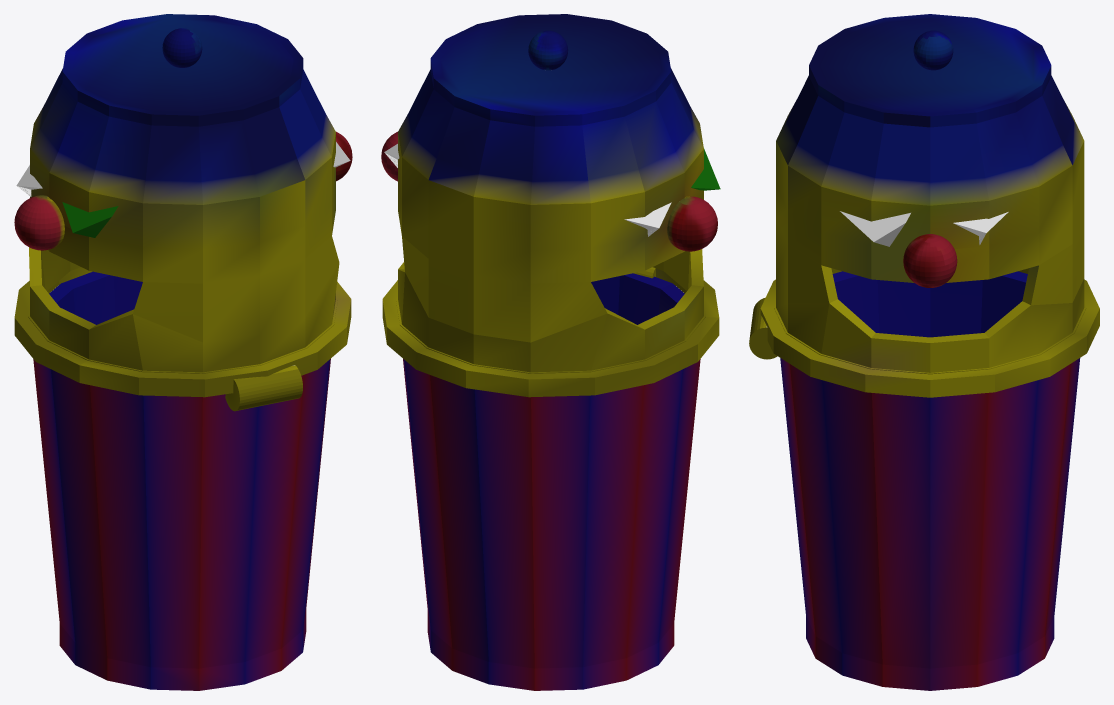
File: lixeiracorfinal.fbx
The picture shows the model from 3 angles, left to right: view 1: azimuth 30°, elevation 25°; view 2: azimuth 150°, elevation 25°; view 3: azimuth 270°, elevation 25°; orthographic projection.
Parts seen in each view (by area): view 1: Cilindro.001, Cilindro, Cubo.000; view 2: Cilindro.001, Cilindro, Cubo.001, Cubo.000; view 3: Cilindro.001, Cilindro, Cubo.002, Cubo.001.
Boxes of the visible parts, left/top/right/bottom form: Cilindro.001: left=14, top=14, right=352, bottom=411; Cilindro: left=33, top=271, right=330, bottom=690; Cubo.000: left=62, top=202, right=118, bottom=237; Cilindro.001: left=381, top=14, right=719, bottom=397; Cilindro: left=403, top=273, right=700, bottom=690; Cubo.001: left=384, top=144, right=671, bottom=236; Cubo.000: left=691, top=149, right=720, bottom=190; Cilindro.001: left=749, top=14, right=1099, bottom=397; Cilindro: left=780, top=271, right=1080, bottom=690; Cubo.002: left=840, top=211, right=910, bottom=246; Cubo.001: left=953, top=212, right=1008, bottom=244.
Size of the model in its own units: 341 by 599 by 314.
